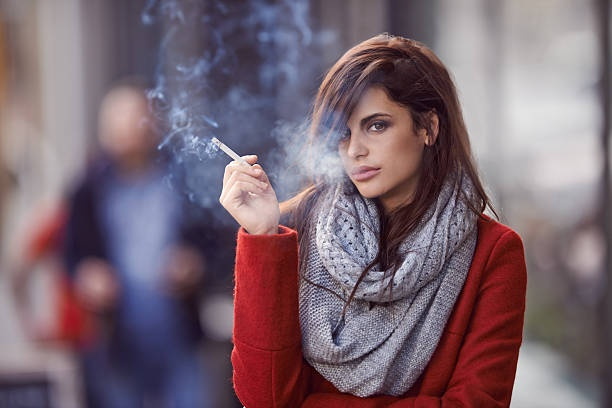sigaretta: (209, 134, 258, 176)
